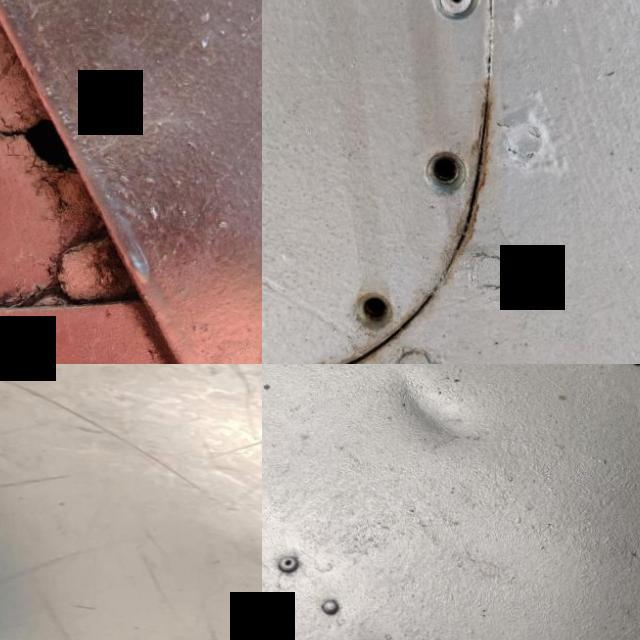Crack: (0, 93, 103, 193)
Dent: (357, 364, 509, 493)
Missing_Fastener: (405, 134, 489, 216), (341, 270, 409, 348)
